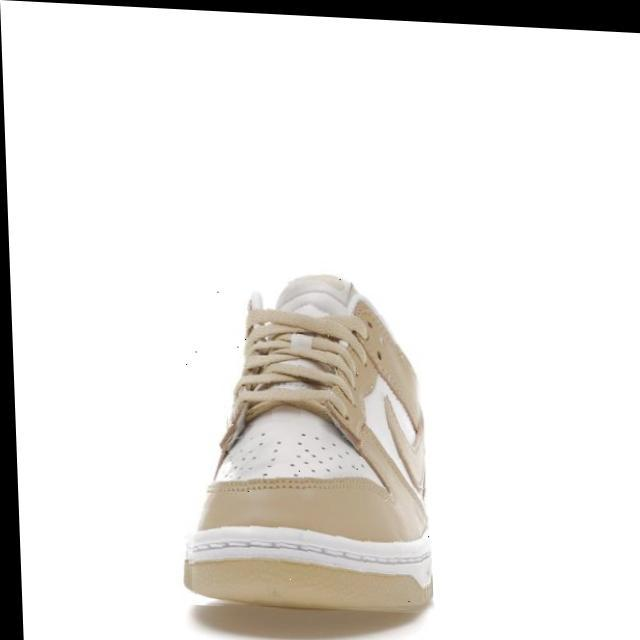J1_InsoleChar: (3, 2, 636, 638)
J1_MateComp: (182, 272, 434, 614)
J1_StitchPattern: (236, 309, 375, 419), (250, 336, 351, 396)
